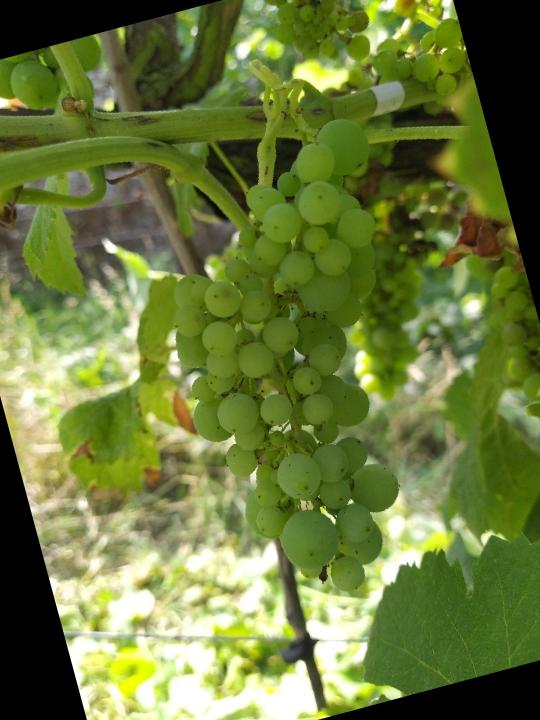grape: (126, 111, 481, 621)
